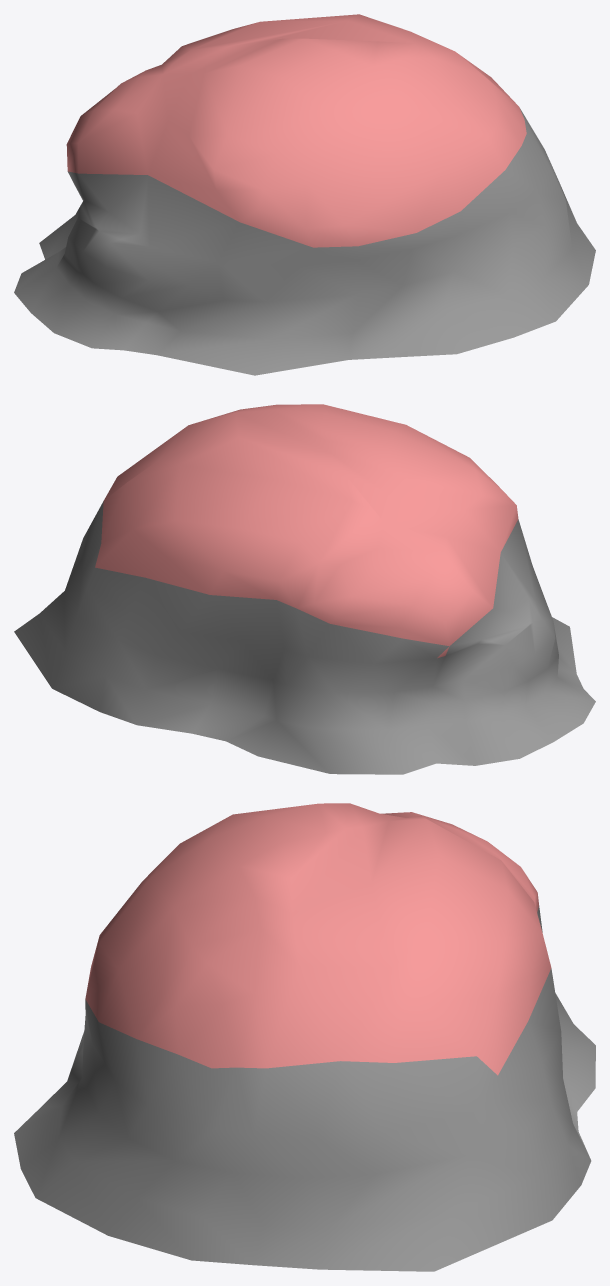
File: sporeseastoneA02.gltf
3 renders of one model, top to bottom at view 1: azimuth 30°, elevation 25°; view 2: azimuth 150°, elevation 25°; view 3: azimuth 270°, elevation 25°, orthographic. The views are drawn at different scales.
Visible parts, largest first — view 1: sporeseastoneA02; view 2: sporeseastoneA02; view 3: sporeseastoneA02.
Boxes of the visible parts, x1,y1,x2,y2 form: sporeseastoneA02: [14, 14, 595, 375]; sporeseastoneA02: [14, 404, 595, 774]; sporeseastoneA02: [14, 803, 595, 1271].
Size of the model in its own units: 3.27 by 1.41 by 2.61.
